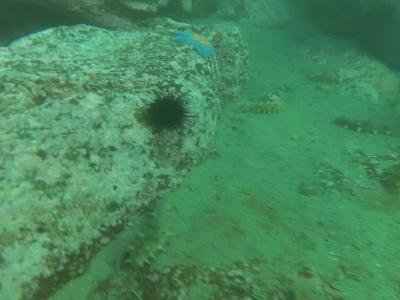holothurian: (134, 226, 173, 270), (332, 112, 392, 139), (241, 100, 279, 116)
urchin: (143, 88, 195, 134)
